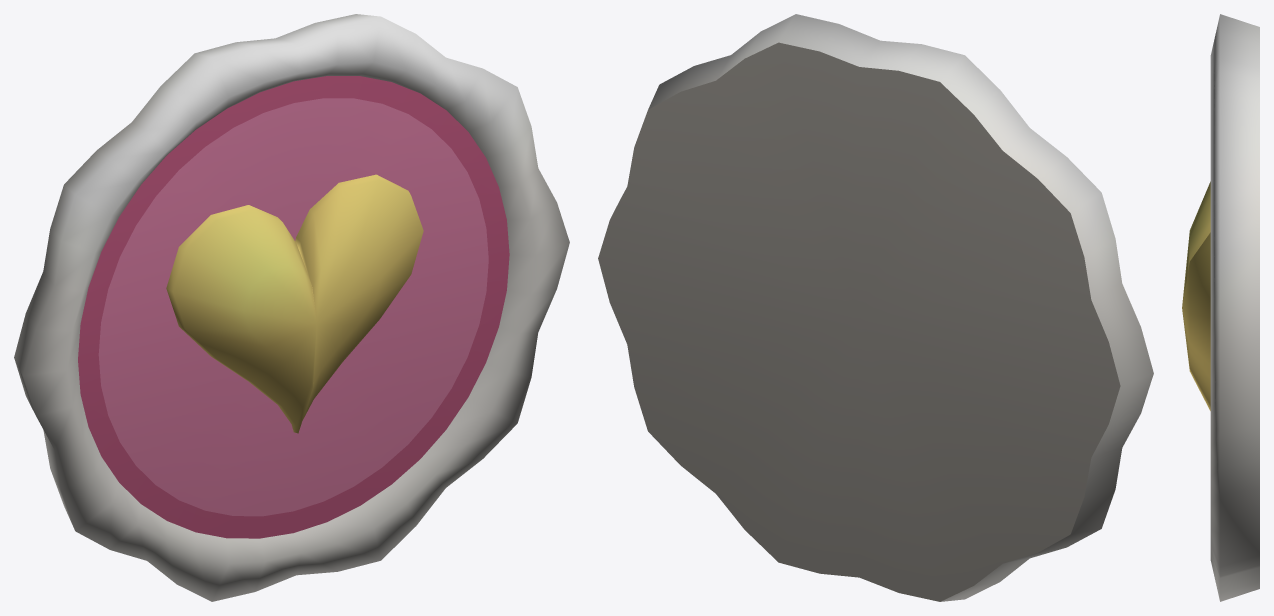
Rendered from Sticker.fbx.
3 views of the same model, side by side, from view 1: azimuth 30°, elevation 25°; view 2: azimuth 150°, elevation 25°; view 3: azimuth 270°, elevation 25° (orthographic). The views are drawn at different scales.
Parts seen in each view (by area): view 1: Sticker; view 2: Sticker; view 3: Sticker.
Part boxes in pixels (x1,y1,x2,y2): Sticker: (14, 14, 569, 601); Sticker: (598, 14, 1153, 601); Sticker: (1182, 14, 1259, 601).
Bounding box in the file's own units: 0.684 × 0.6519 × 0.09.
